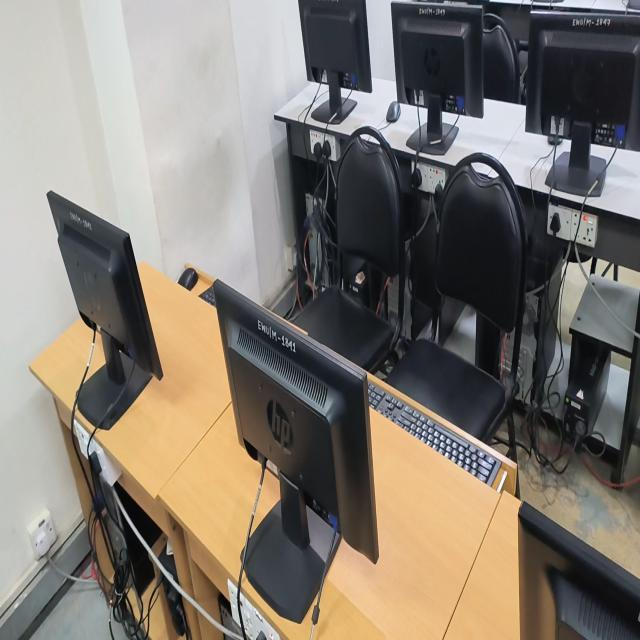Chair: (385, 153, 527, 444), (336, 126, 405, 285), (294, 285, 400, 373), (483, 14, 521, 102)
Cpu: (307, 185, 334, 291), (100, 474, 127, 564), (516, 295, 538, 404), (506, 338, 512, 360)
Keyboard: (369, 382, 503, 487), (199, 286, 216, 306)
Monitor: (214, 281, 378, 623), (47, 191, 163, 430), (525, 14, 640, 194), (518, 503, 640, 639), (392, 4, 483, 117), (298, 0, 372, 123)
Mouse: (177, 267, 198, 290), (386, 101, 400, 123)
